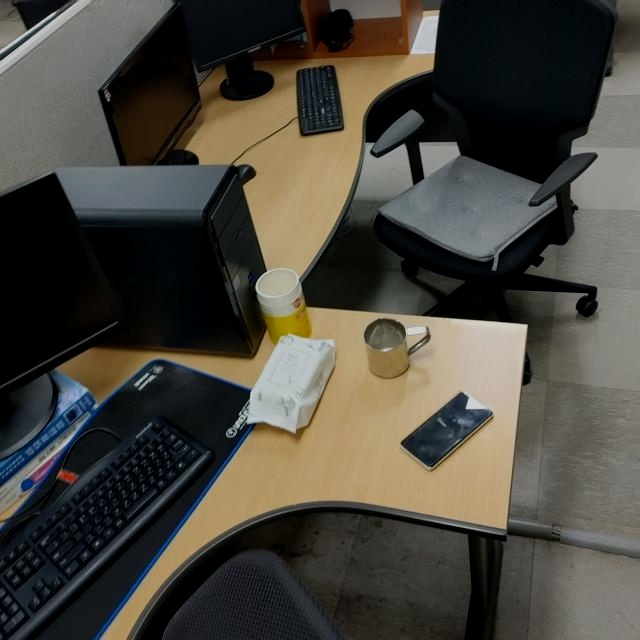cup: (362, 315, 430, 381)
phone: (399, 388, 497, 472)
